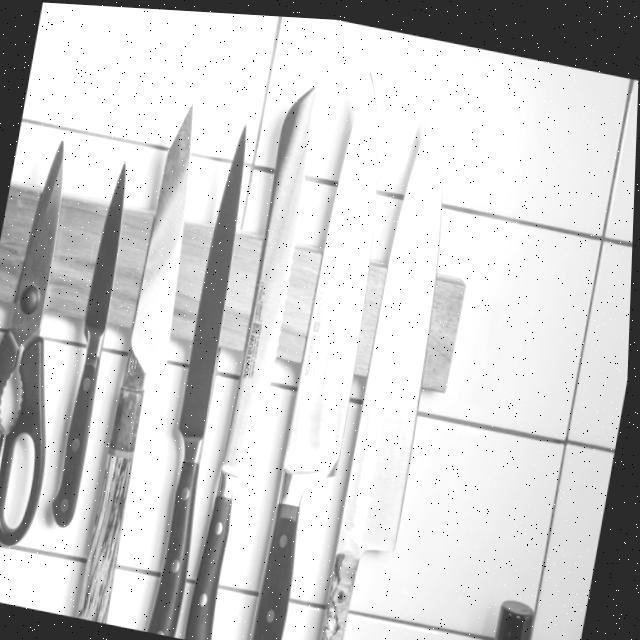knife: (244, 52, 410, 640), (311, 63, 478, 640), (186, 58, 330, 640), (73, 89, 214, 628), (136, 107, 269, 639), (47, 154, 138, 538)
